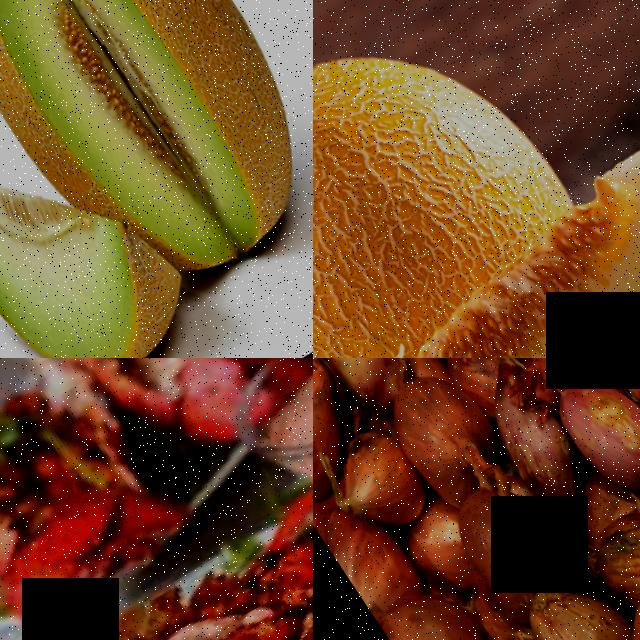lobster tails: (0, 449, 313, 640), (0, 358, 202, 640)
melon: (313, 0, 589, 358), (0, 0, 313, 309), (313, 135, 640, 358), (0, 112, 150, 358)
onion: (353, 358, 512, 516), (418, 469, 576, 623), (531, 361, 640, 513), (313, 418, 428, 546), (348, 565, 506, 640), (480, 570, 640, 640), (477, 358, 626, 416), (313, 358, 361, 495), (313, 358, 421, 412)
